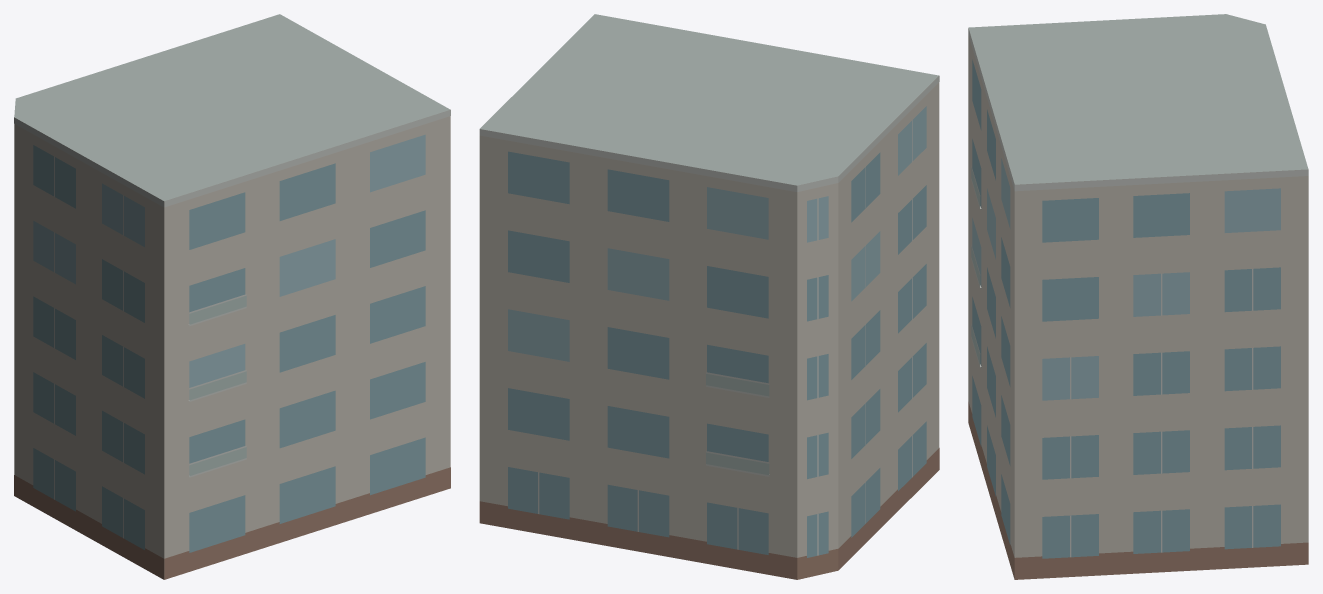
The model's file is survey-upis-32744309.glb.
3 renders of one model, left to right at view 1: azimuth 30°, elevation 25°; view 2: azimuth 150°, elevation 25°; view 3: azimuth 270°, elevation 25°, orthographic. The views are drawn at different scales.
Visible parts, largest first — view 1: survey-upis-32744309.tmp; view 2: survey-upis-32744309.tmp; view 3: survey-upis-32744309.tmp.
Boxes of the visible parts, x1,y1,x2,y2 form: survey-upis-32744309.tmp: (14,14,450,579); survey-upis-32744309.tmp: (479,14,939,579); survey-upis-32744309.tmp: (968,14,1308,579).
Bounding box in the file's own units: 13.63 × 14.7 × 11.48.
